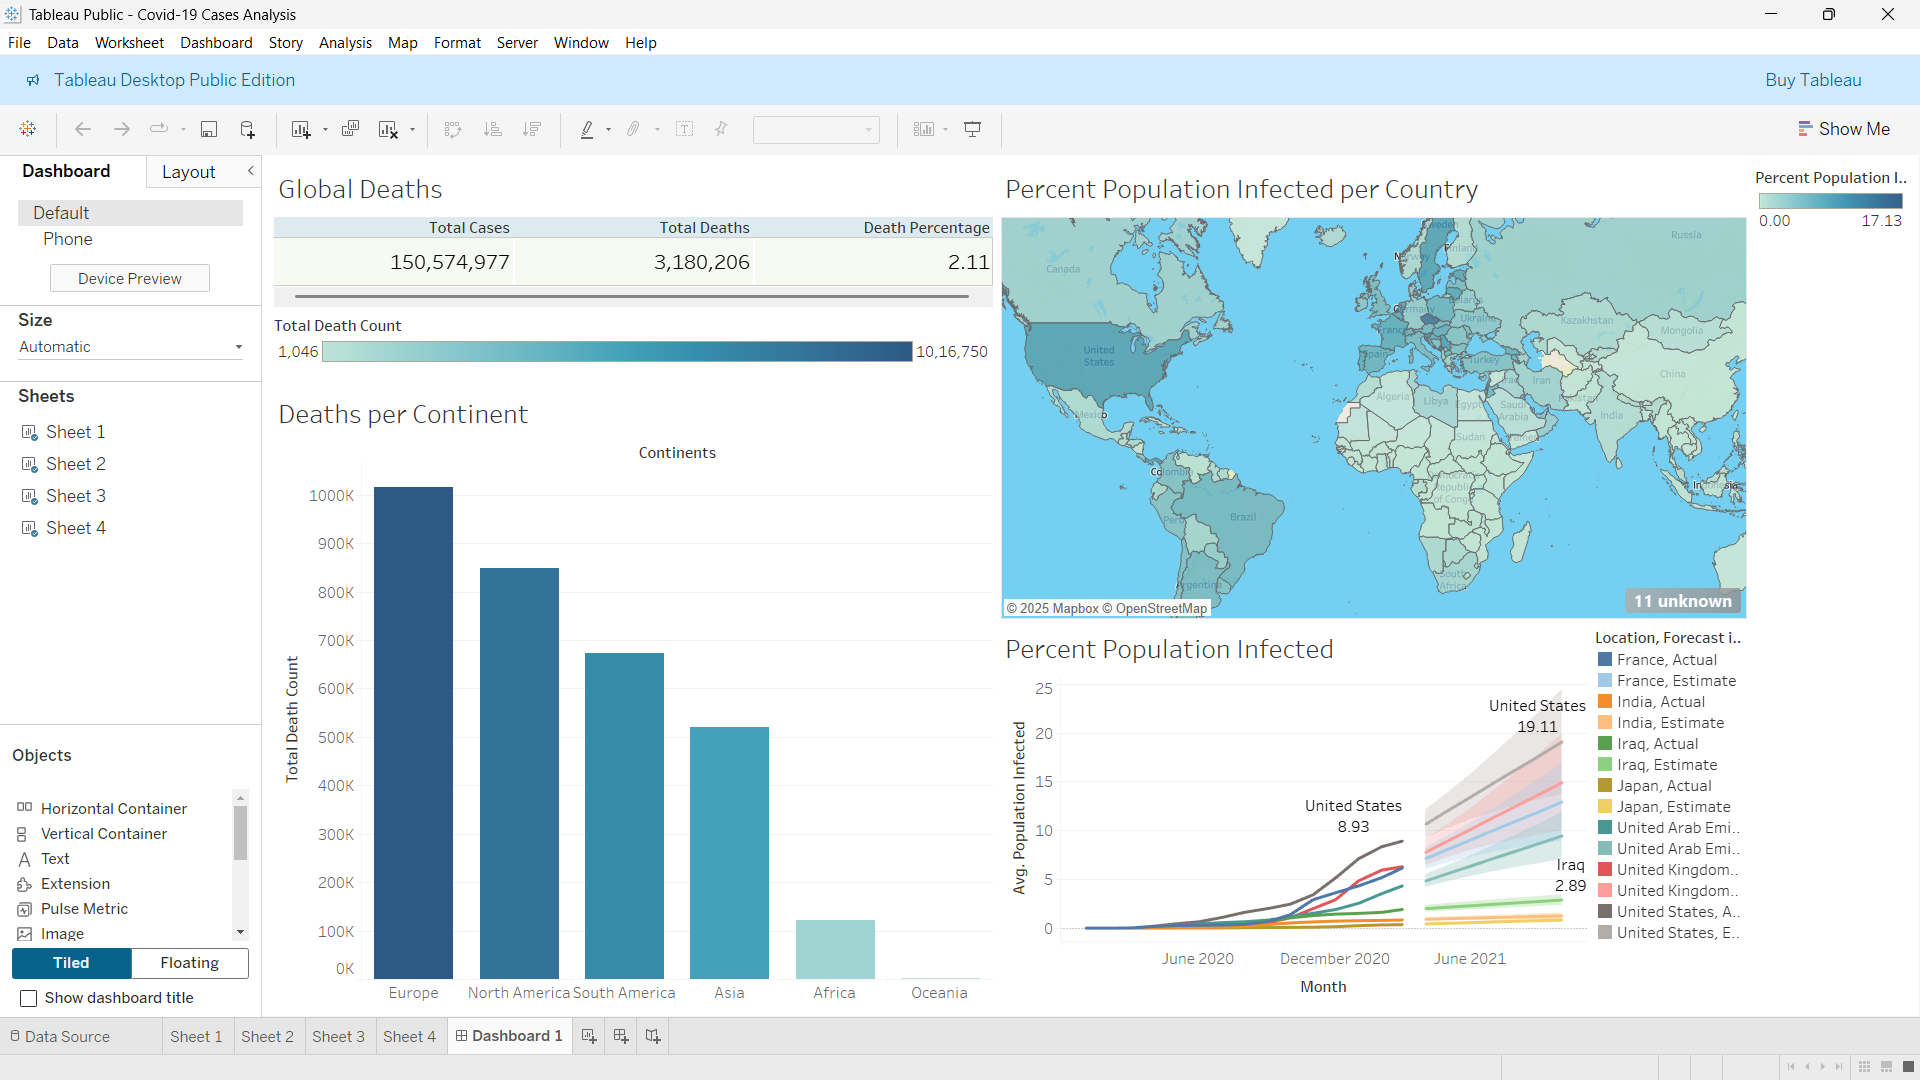

Layout of this report page (visuals, bound fields, positions):
{"tool":"tableau","page":{"name":"Dashboard 1","canvas":[1000,1000],"units":"permille","ordinal":0},"visuals":[{"type":"worksheet","title":"Sheet 1","mark":"Automatic","box":[4.8,9.3,438.7,171.9]},{"type":"worksheet","title":"Sheet 3","mark":"Automatic","box":[443.6,9.3,455,534.3]},{"type":"legend","title":"Sheet 3","param":"[federated.0wvzenh0ipi9ix11yx0qk0de7hw8].[sum:PercentPopulationInfected:qk]","box":[898.6,9.3,96.6,91.8]},{"type":"legend","title":"Sheet 2","param":"[federated.1ey27hh075aq1a1at0a7o0bq9i8k].[sum:TotalDeathCount:qk]","box":[4.8,181.2,438.7,89.4]},{"type":"worksheet","title":"Sheet 2","mark":"Automatic","rows":["TotalDeathCount"],"cols":["location"],"box":[4.8,270.6,438.7,720.1]},{"type":"worksheet","title":"Sheet 4","mark":"Automatic","rows":["PercentPopulationInfected"],"cols":["date"],"box":[443.6,543.5,358.5,447.2]},{"type":"legend","title":"Sheet 4","param":"[federated.1917cre1e1dhhr16h5rop0dzbkvz].[none:Location:nk]\n[federated.1917cre1e","box":[802.1,543.5,96.6,447.2]}]}

Visuals, with their boxes on the dashboard's canvas, which has no fixed pixel size, in thousandths of its width and height (x1, y1, x2, y2). These are canvas units, not pixel positions in the 1920x1080 screenshot, which may show the page scaled, cropped or inside an application window:
"Sheet 1" worksheet: x1=5 y1=9 x2=444 y2=181
"Sheet 3" worksheet: x1=444 y1=9 x2=899 y2=544
"Sheet 3" legend: x1=899 y1=9 x2=995 y2=101
"Sheet 2" legend: x1=5 y1=181 x2=444 y2=271
"Sheet 2" worksheet: x1=5 y1=271 x2=444 y2=991
"Sheet 4" worksheet: x1=444 y1=544 x2=802 y2=991
"Sheet 4" legend: x1=802 y1=544 x2=899 y2=991
